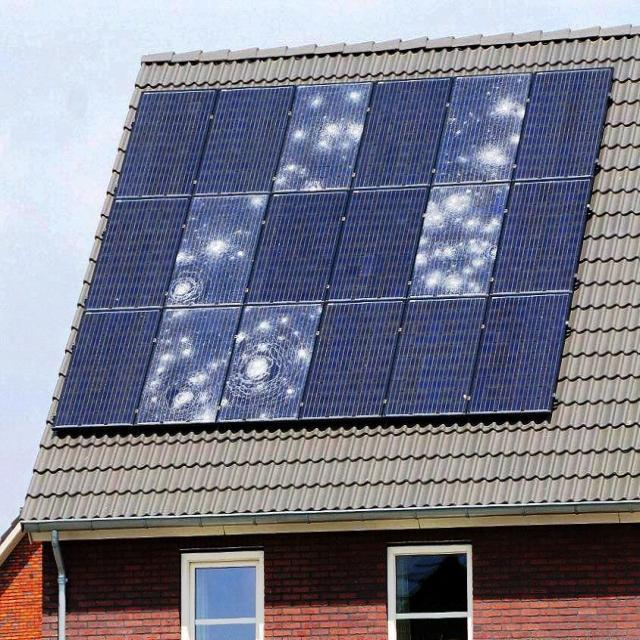faulty: (129, 287, 244, 427), (404, 182, 514, 300), (221, 296, 318, 424), (434, 73, 537, 185), (168, 196, 264, 304), (278, 84, 368, 192)
no faulty: (388, 296, 494, 429), (294, 302, 406, 426), (474, 294, 577, 424), (52, 314, 165, 432), (324, 184, 436, 298), (511, 65, 617, 185), (244, 186, 348, 298), (86, 195, 183, 314), (191, 83, 291, 197), (503, 179, 597, 298), (351, 81, 445, 190), (120, 88, 213, 198)
